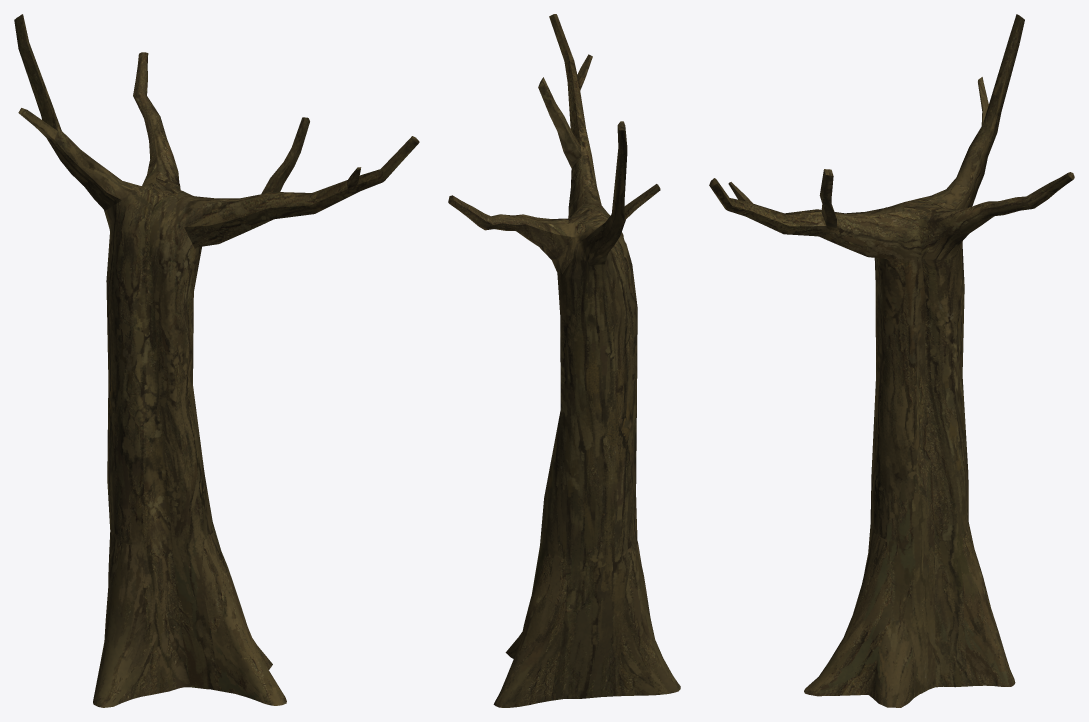
The model's file is NYR_tree04.FBX.
The picture shows the model from 3 angles, left to right: view 1: azimuth 30°, elevation 25°; view 2: azimuth 150°, elevation 25°; view 3: azimuth 270°, elevation 25°; orthographic projection. The views are drawn at different scales.
Parts seen in each view (by area): view 1: Cylinder001; view 2: Cylinder001; view 3: Cylinder001.
Part boxes in pixels (<box>): Cylinder001: <box>14,14,419,707</box>; Cylinder001: <box>448,14,680,707</box>; Cylinder001: <box>709,14,1074,707</box>.
Bounding box in the file's own units: 187 × 445 × 242.
